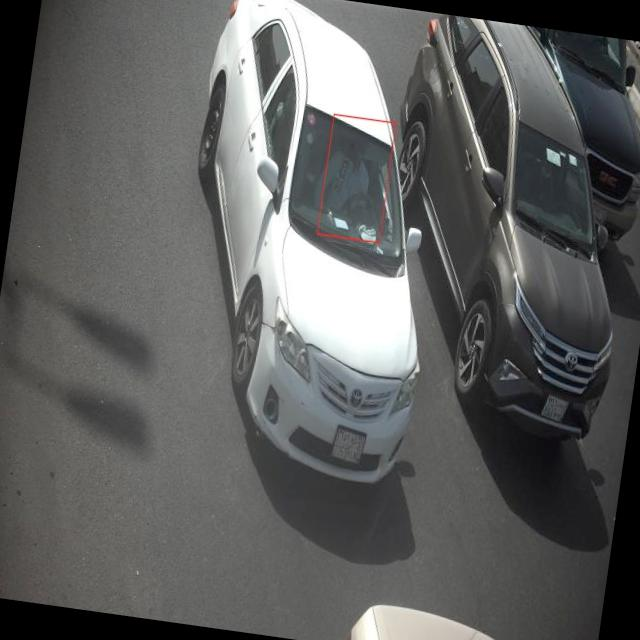person_without_seatbelt: (322, 120, 394, 238)
